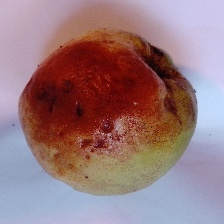guava: (26, 39, 187, 219)
